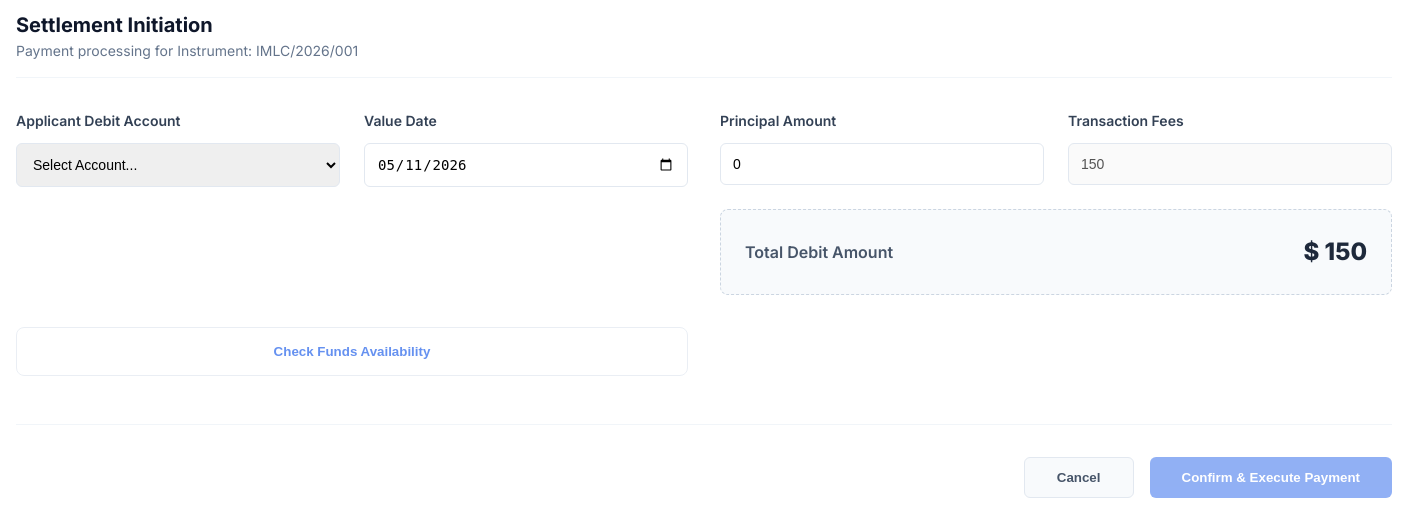
Test: SettlementInitiation (BDD-IMP-FLOW-07,08 / BDD-IMP-VAL-01) › BDD-IMP-VAL-01 & BDD-IMP-FLOW-07: Calculates settlement breakdown (Principal, Interest, Charges)
Replace the text in the number field labelled "Principal Amount" with "100000" at (882, 164), box top-left (720, 143), bottom-right (1044, 185)
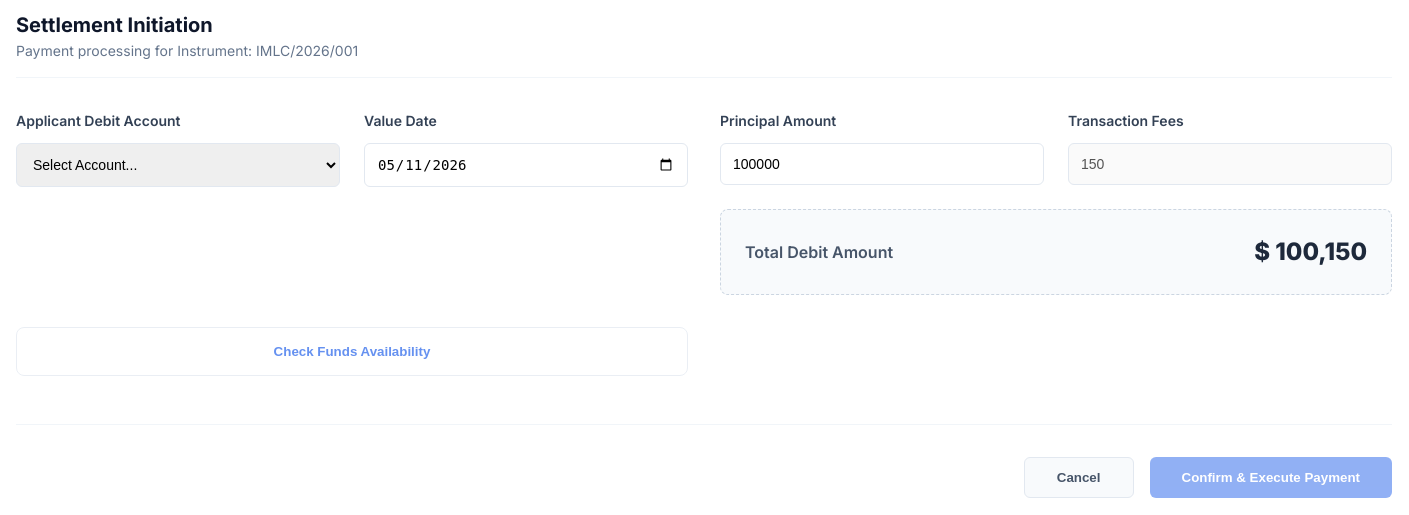
Expected: the text "$ 100,150" is shown, top-left (1254, 234), bottom-right (1367, 270)
